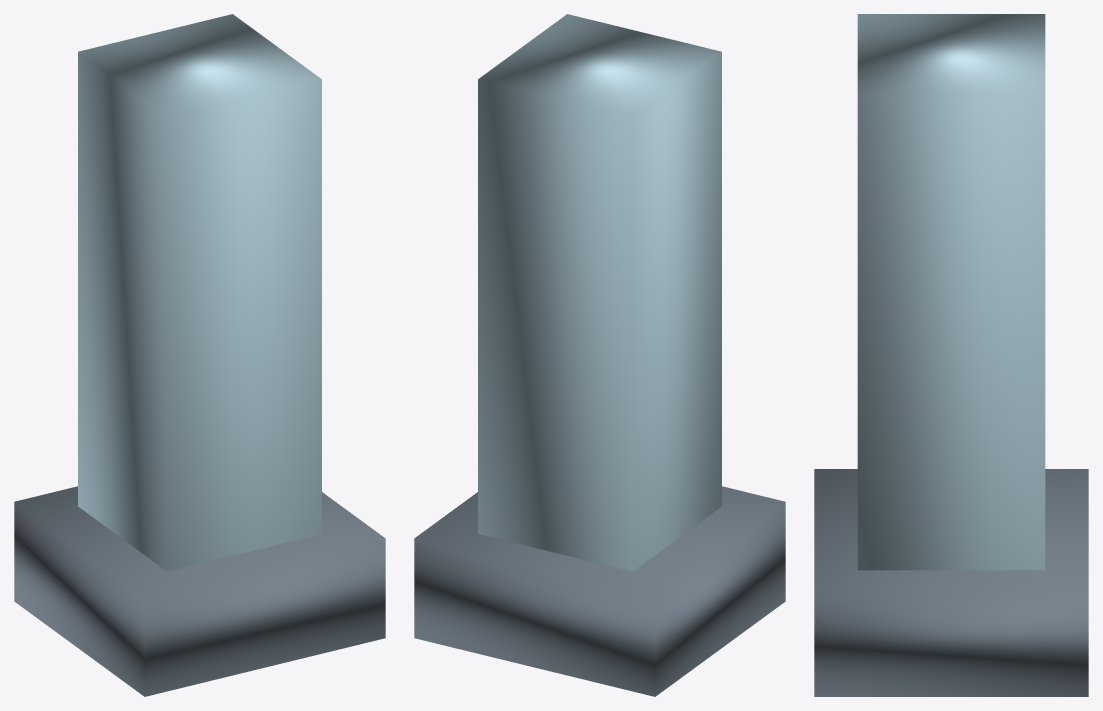
File: ice-mine-ice-pillar-lod2.glb
The picture shows the model from 3 angles, left to right: view 1: azimuth 30°, elevation 25°; view 2: azimuth 150°, elevation 25°; view 3: azimuth 270°, elevation 25°; orthographic projection. The views are drawn at different scales.
Parts seen in each view (by area): view 1: ice-mine-ice-pillar-core, ice-mine-ice-pillar-rock-base; view 2: ice-mine-ice-pillar-core, ice-mine-ice-pillar-rock-base; view 3: ice-mine-ice-pillar-core, ice-mine-ice-pillar-rock-base.
Part boxes in pixels (x1=…): ice-mine-ice-pillar-core: x1=78, y1=14, x2=321, y2=571; ice-mine-ice-pillar-rock-base: x1=14, y1=486, x2=385, y2=696; ice-mine-ice-pillar-core: x1=478, y1=14, x2=721, y2=571; ice-mine-ice-pillar-rock-base: x1=414, y1=486, x2=785, y2=696; ice-mine-ice-pillar-core: x1=857, y1=14, x2=1045, y2=570; ice-mine-ice-pillar-rock-base: x1=814, y1=469, x2=1088, y2=696.
Bounding box in the file's own units: 1.62 × 3.56 × 1.52.
